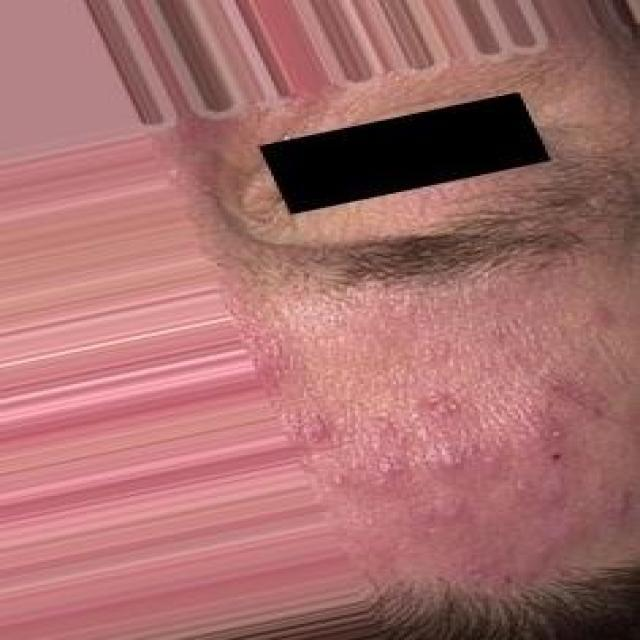Rosacea: (254, 341, 610, 548)
